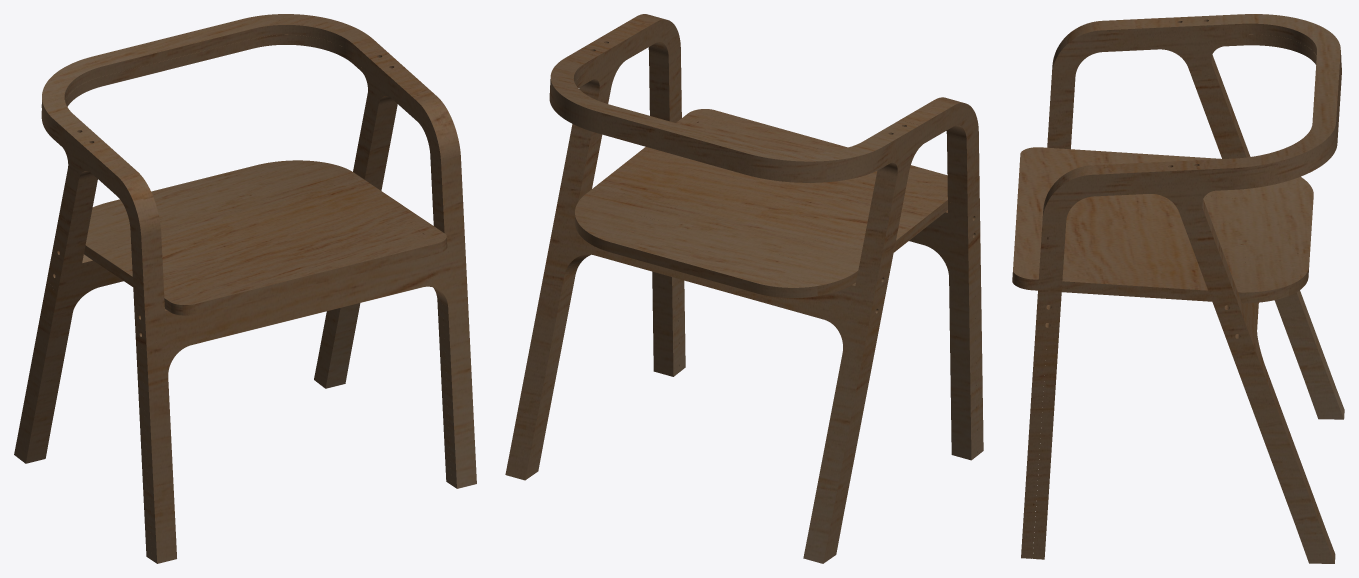
The picture shows the model from 3 angles, left to right: view 1: azimuth 30°, elevation 25°; view 2: azimuth 150°, elevation 25°; view 3: azimuth 270°, elevation 25°; orthographic projection. The views are drawn at different scales.
Parts seen in each view (by area): view 1: 3; view 2: 3; view 3: 3.
Part boxes in pixels (box(x1,y1,x2,y2)): 3: box(14, 14, 476, 563); 3: box(505, 14, 983, 563); 3: box(1012, 14, 1344, 563).
Bounding box in the file's own units: 0.6009 × 0.6734 × 0.5045.
1 material, 1 textured.
